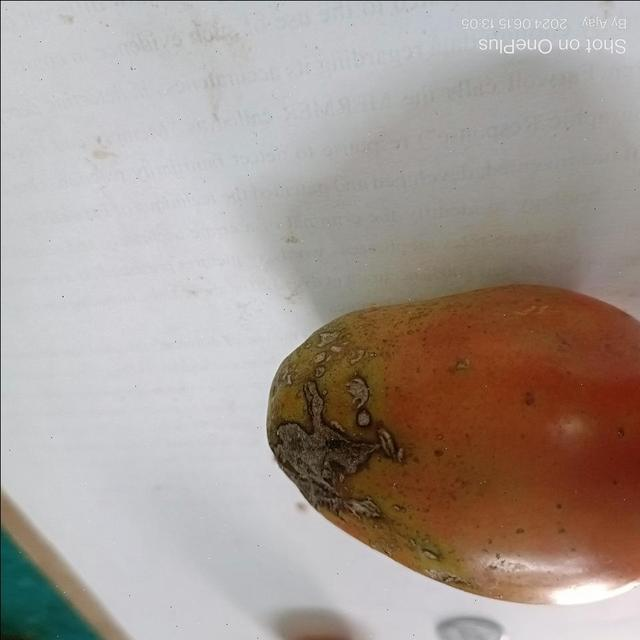Bacterial Spot Fruit: (180, 249, 270, 346)
